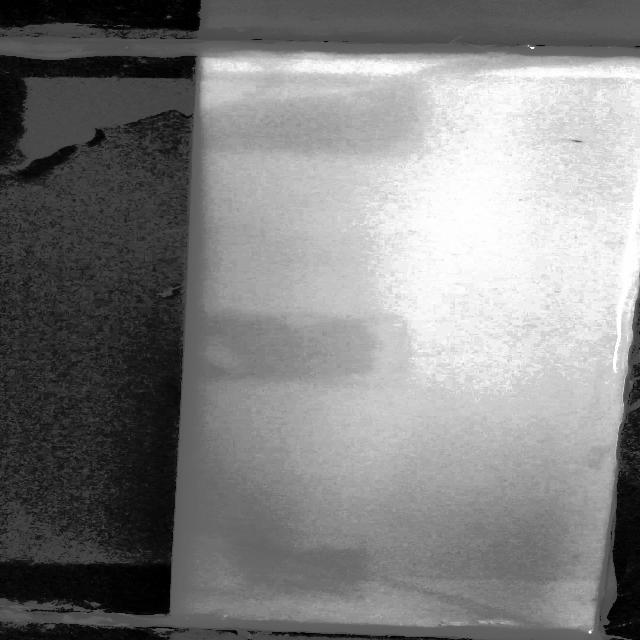shrimp: (565, 134, 587, 145)
